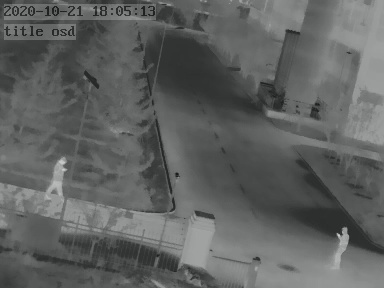person: (46, 155, 68, 201), (334, 226, 349, 267)
